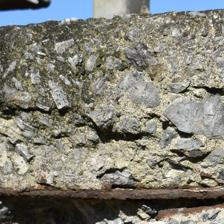Crack: (2, 51, 154, 98)
